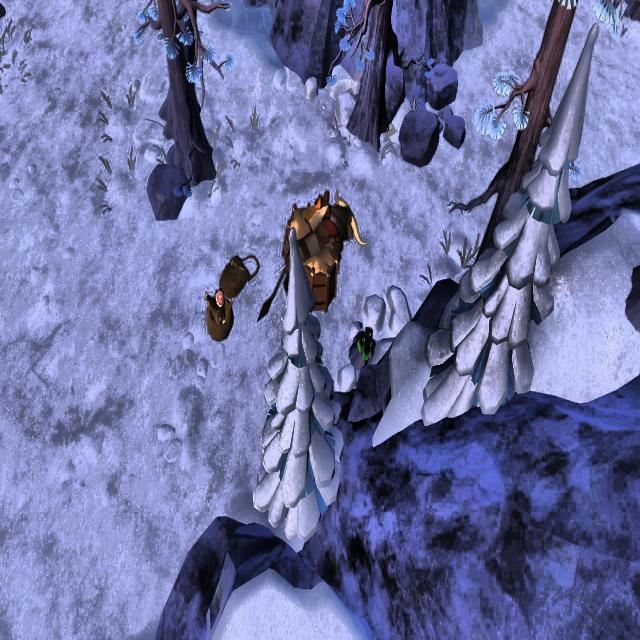ore_t3: (358, 323, 374, 362)
